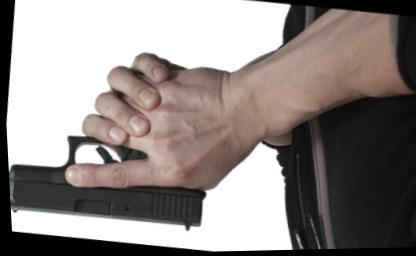pistol: (5, 125, 213, 241)
